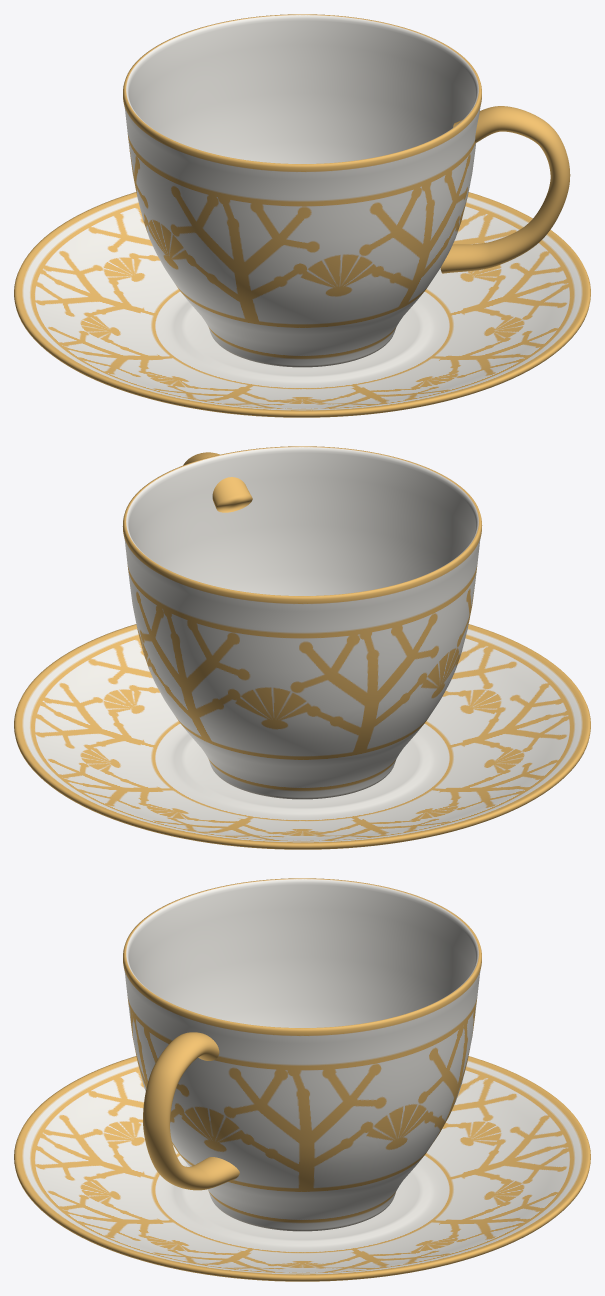
The model's file is coral-cup-saucer.glb.
The picture shows the model from 3 angles, top to bottom: view 1: azimuth 30°, elevation 25°; view 2: azimuth 150°, elevation 25°; view 3: azimuth 270°, elevation 25°; orthographic projection.
Parts seen in each view (by area): view 1: cup, saucer, cup-handle; view 2: cup, saucer, cup-handle; view 3: cup, saucer, cup-handle.
Boxes of the visible parts, x1,y1,x2,y2 form: cup: (123, 14, 481, 367); saucer: (14, 192, 590, 417); cup-handle: (440, 106, 570, 273); cup: (122, 446, 482, 799); saucer: (14, 624, 590, 849); cup-handle: (183, 452, 252, 512); cup: (123, 878, 481, 1231); saucer: (14, 1056, 590, 1281); cup-handle: (143, 1032, 239, 1190).
Size of the model in its own units: 0.1506 by 0.0753 by 0.1506.
3 materials, 2 textured.
